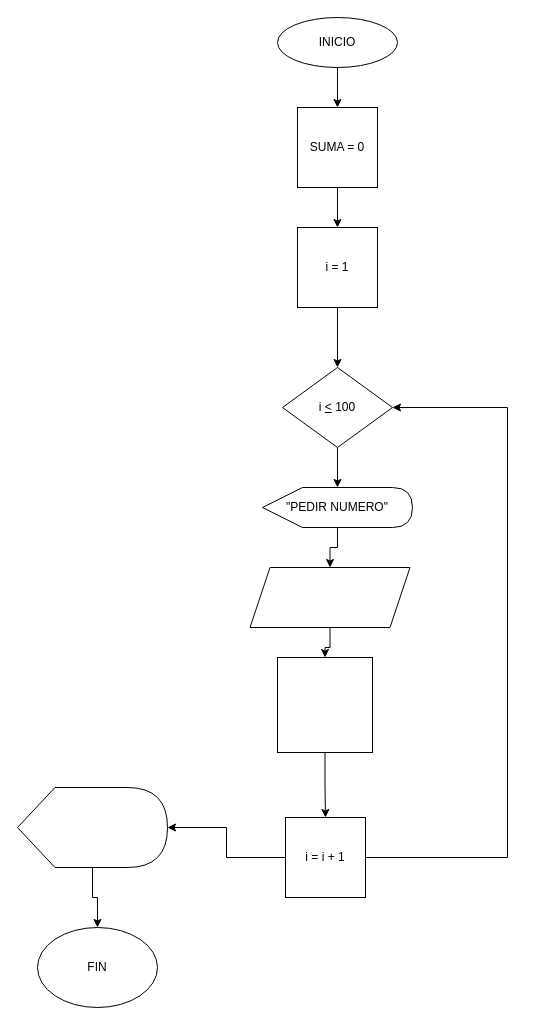
The diagram is 533 pixels wide and 1025 high, and some of its shapes have lost their labels. The box of each missing label's shape, as (x1, y1, x2, y2) in pixels:
"LA SUMA TOTAL ES: SUMA": (16, 786, 168, 868)
LEER NUMERO: (249, 566, 410, 628)
SUMA = SUMA + NUMERO: (276, 656, 372, 752)
